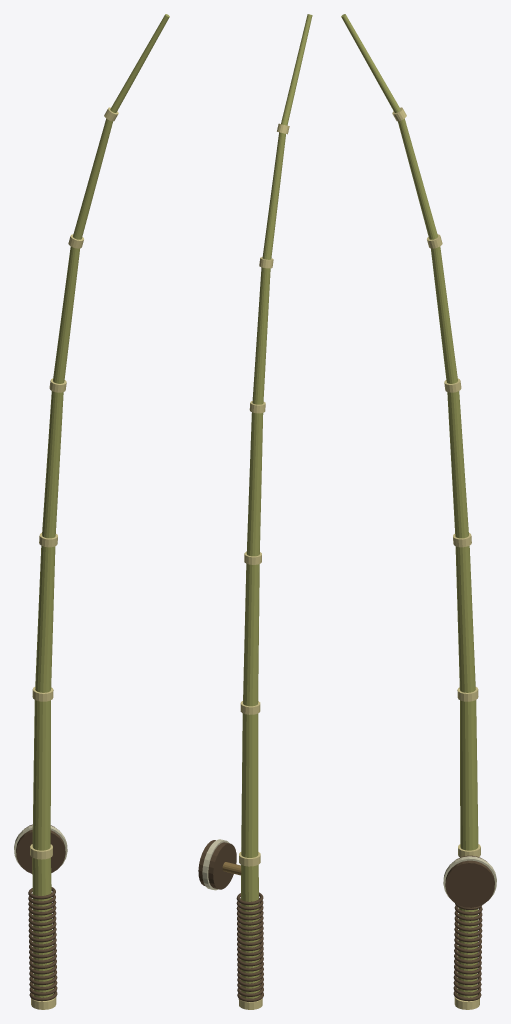
The model's file is BambooRod_AnimatedReel.fbx.
3 views of the same model, side by side, from view 1: azimuth 90°, elevation 25°; view 2: azimuth 150°, elevation 25°; view 3: azimuth 270°, elevation 25° (orthographic). The views are drawn at different scales.
Parts seen in each view (by area): view 1: SM_BambooRod_LeftReel; view 2: SM_BambooRod_LeftReel; view 3: SM_BambooRod_LeftReel.
Boxes of the visible parts, x1,y1,x2,y2 form: SM_BambooRod_LeftReel: (14,14,169,1009); SM_BambooRod_LeftReel: (198,14,312,1009); SM_BambooRod_LeftReel: (341,14,496,1009).
Bounding box in the file's own units: 0.1244 × 2.22 × 0.3167.
